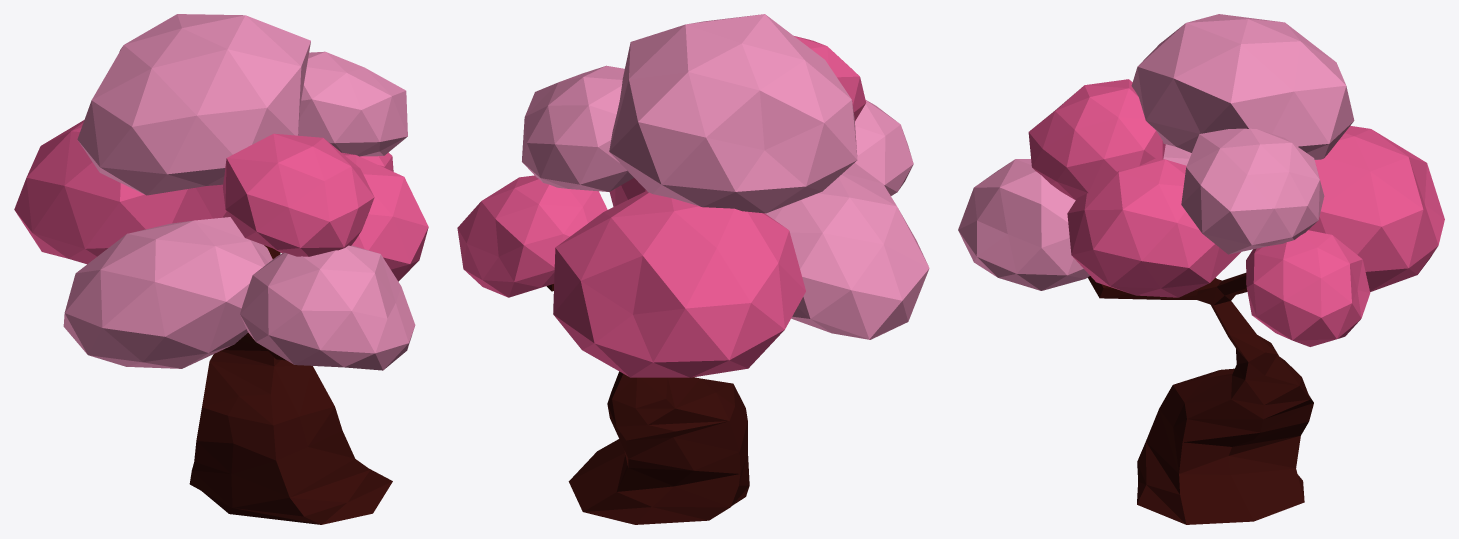
The model's file is cherry_blossom.glb.
3 renders of one model, left to right at view 1: azimuth 30°, elevation 25°; view 2: azimuth 150°, elevation 25°; view 3: azimuth 270°, elevation 25°, orthographic. The views are drawn at different scales.
Visible parts, largest first — view 1: Plane; view 2: Plane; view 3: Plane.
Part boxes in pixels (x1=…): Plane: x1=14, y1=14, x2=428, y2=524; Plane: x1=457, y1=14, x2=929, y2=524; Plane: x1=958, y1=14, x2=1444, y2=524.
Bounding box in the file's own units: 6.82 × 8.14 × 8.36.
